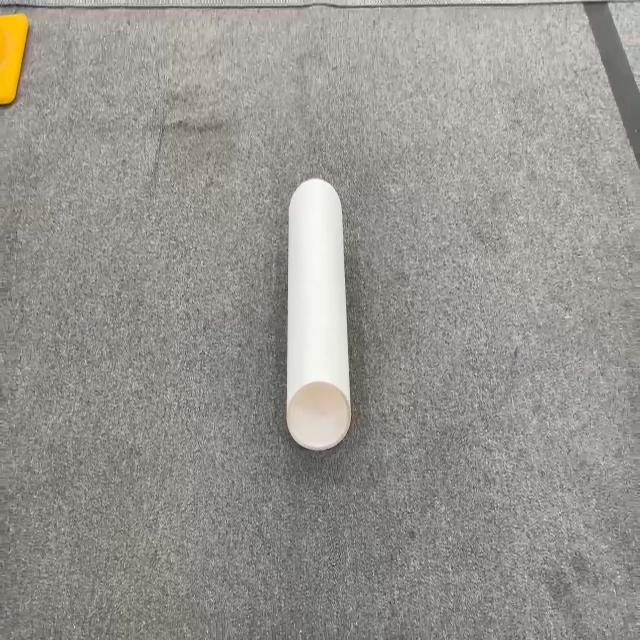coral: (285, 176, 351, 451)
